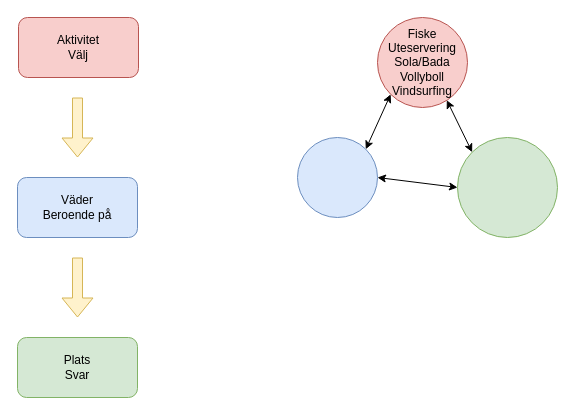
This 575x415 diagram has some shape labels left out. The shapes that lost their labels are listed below. From the top down, each one's centre as x and y in pixels, then its label:
At (337,177): "Väder API 5 dagar".
At (507,187): "Göteborg Kungsbacka Åsa Varberg Falkenberg".
